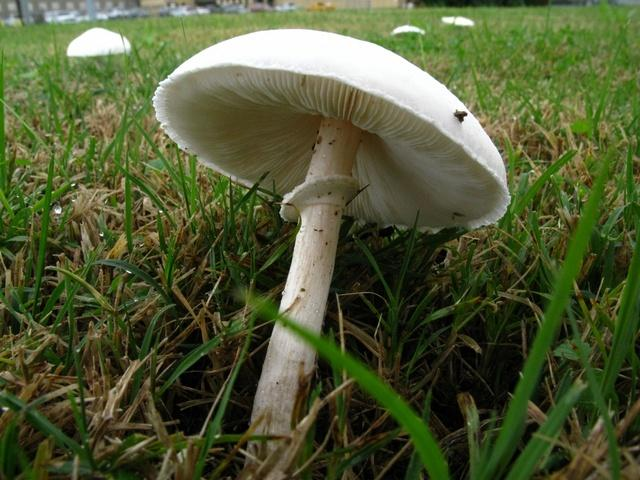poisonous_mushroom: (150, 26, 511, 477)
